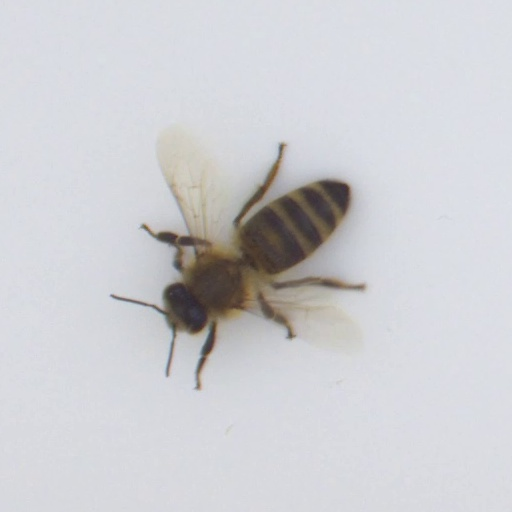Bee: (134, 164, 375, 358)
Thorax: (184, 252, 250, 315)
